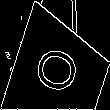O_E: (31, 42, 89, 99)
